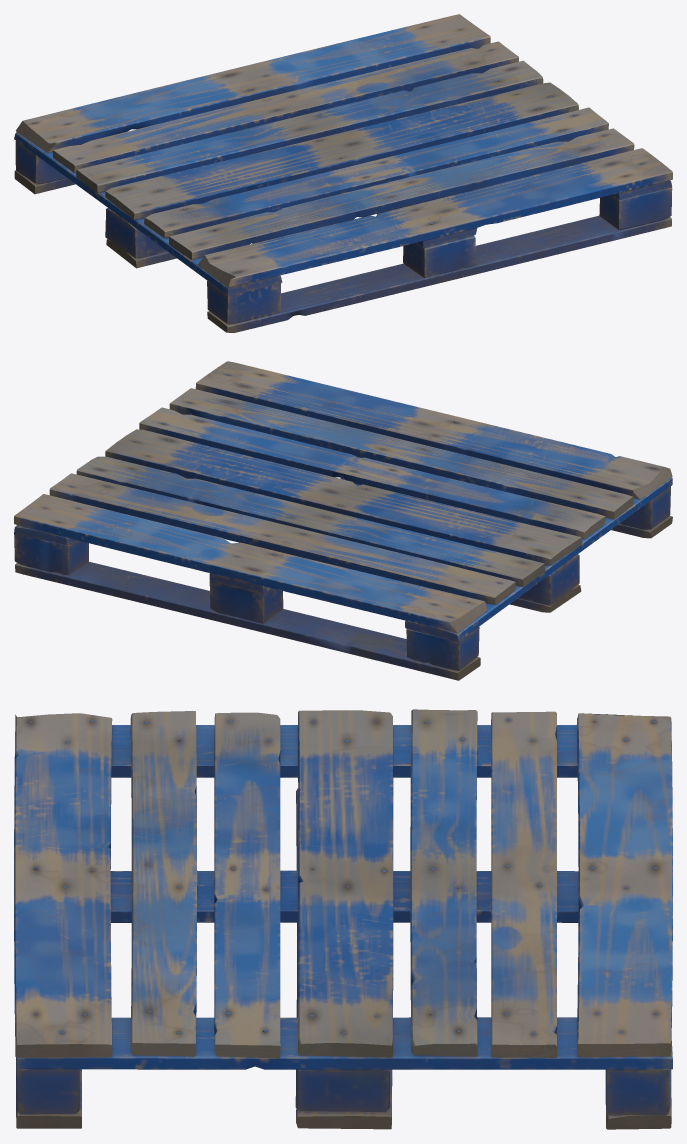
File: pallet_worn_blue.glb
3 renders of one model, top to bottom at view 1: azimuth 30°, elevation 25°; view 2: azimuth 150°, elevation 25°; view 3: azimuth 270°, elevation 25°, orthographic. The views are drawn at different scales.
Visible parts, largest first — view 1: pallet-worn-blue; view 2: pallet-worn-blue; view 3: pallet-worn-blue.
Part boxes in pixels (x1,y1,x2,y2): pallet-worn-blue: (14, 14, 672, 332); pallet-worn-blue: (14, 361, 672, 680); pallet-worn-blue: (14, 709, 672, 1129).
Bounding box in the file's own units: 1.21 × 0.149 × 1.01.
1 material, 1 textured.
